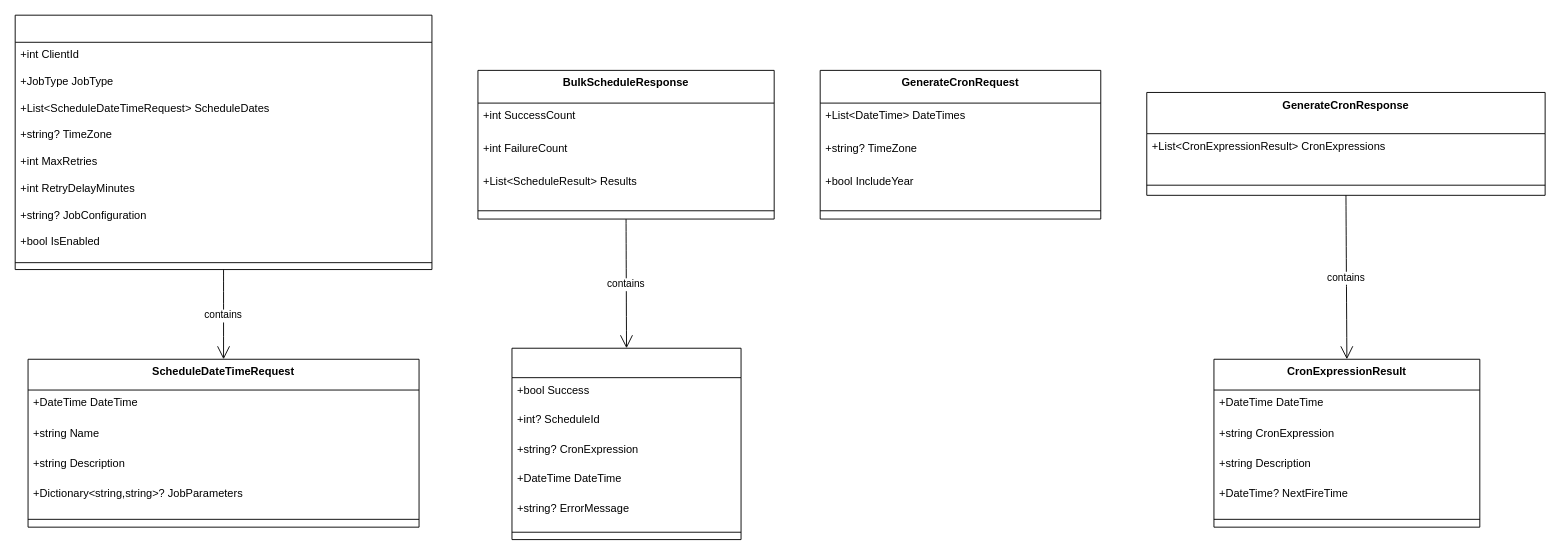
Image size: 1560x555. Some labels were removed from this diagram. Each missing label, with the box of its shape:
BulkScheduleRequest: (14, 14, 432, 270)
ScheduleResult: (511, 347, 741, 540)
